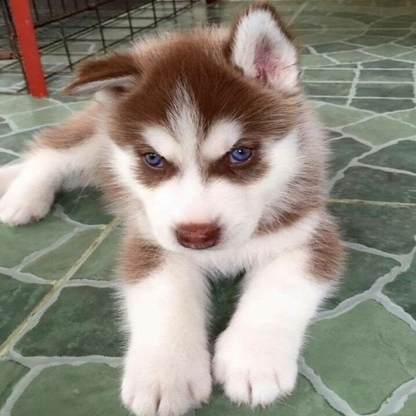husky: (3, 2, 347, 416)
